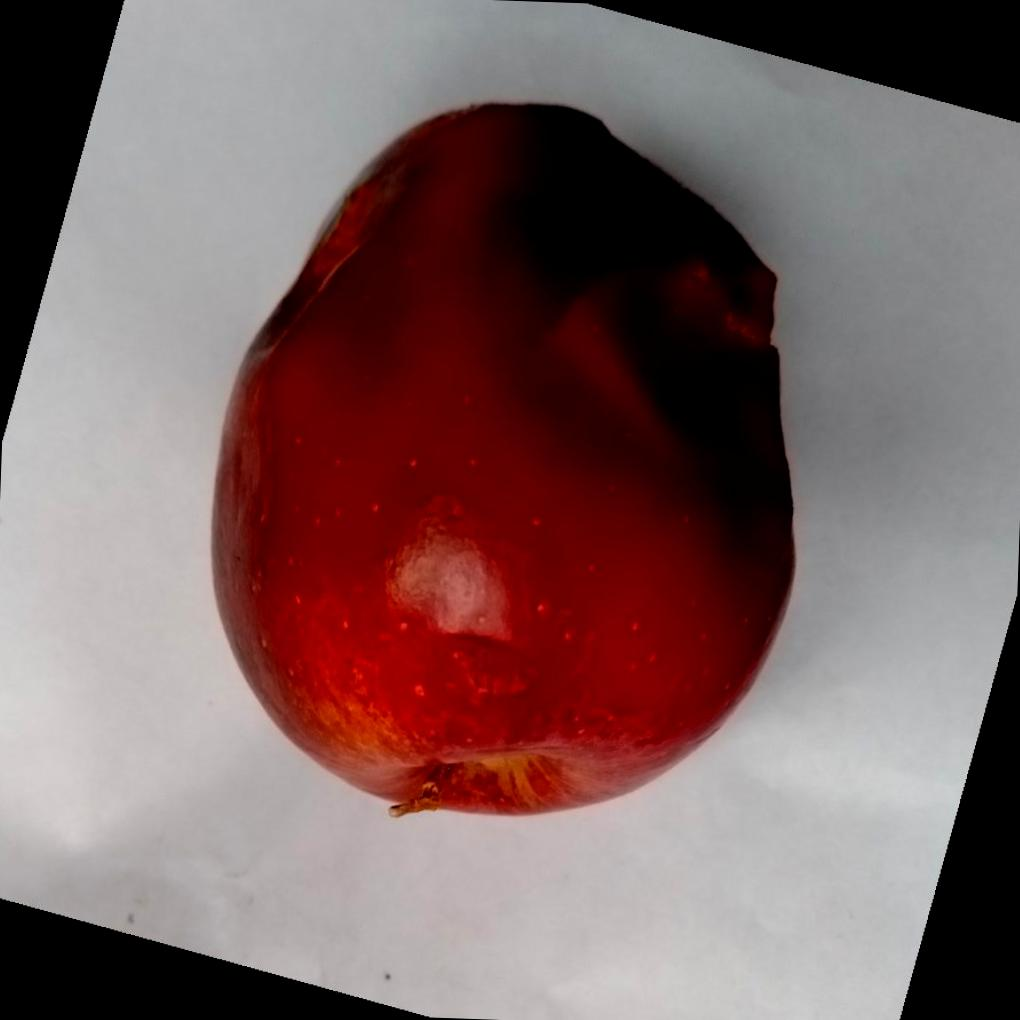FreshOrange: (211, 99, 801, 818)
